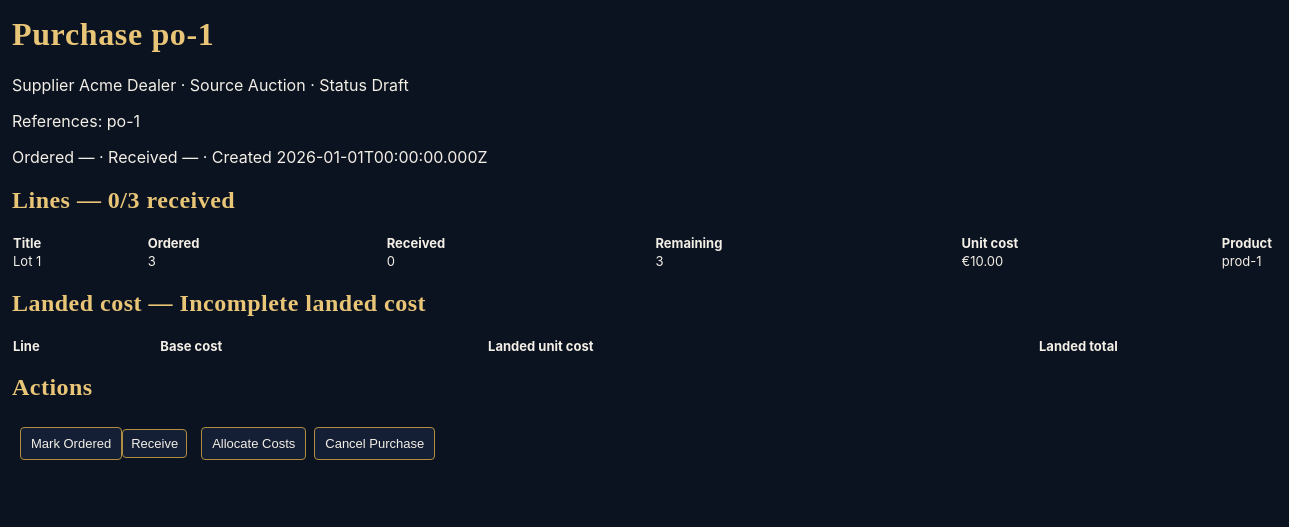
Purchase detail lifecycle actions (Sprint 57B) › shows the backend's cancel rejection message when a stale UI still allows an attempt
Expected: the heading "Purchase po-1" is shown, [12,16,214,52]
Click the button "Cancel Purchase" at {"x": 375, "y": 444}, box [314,427,435,460]
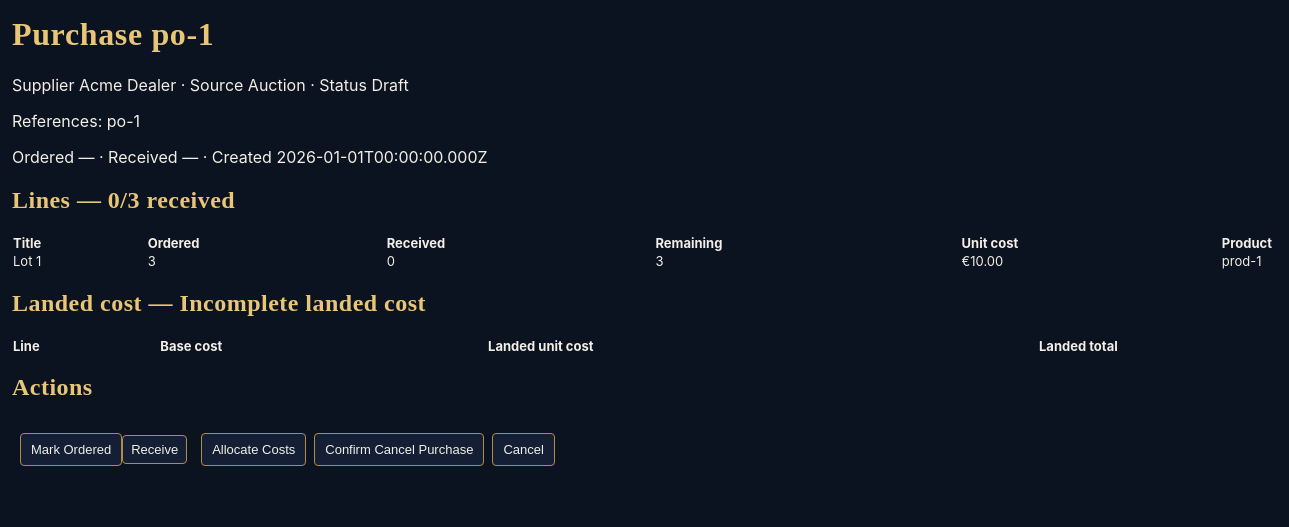
Click the button "Confirm Cancel Purchase" at {"x": 399, "y": 450}, box [314,433,484,466]
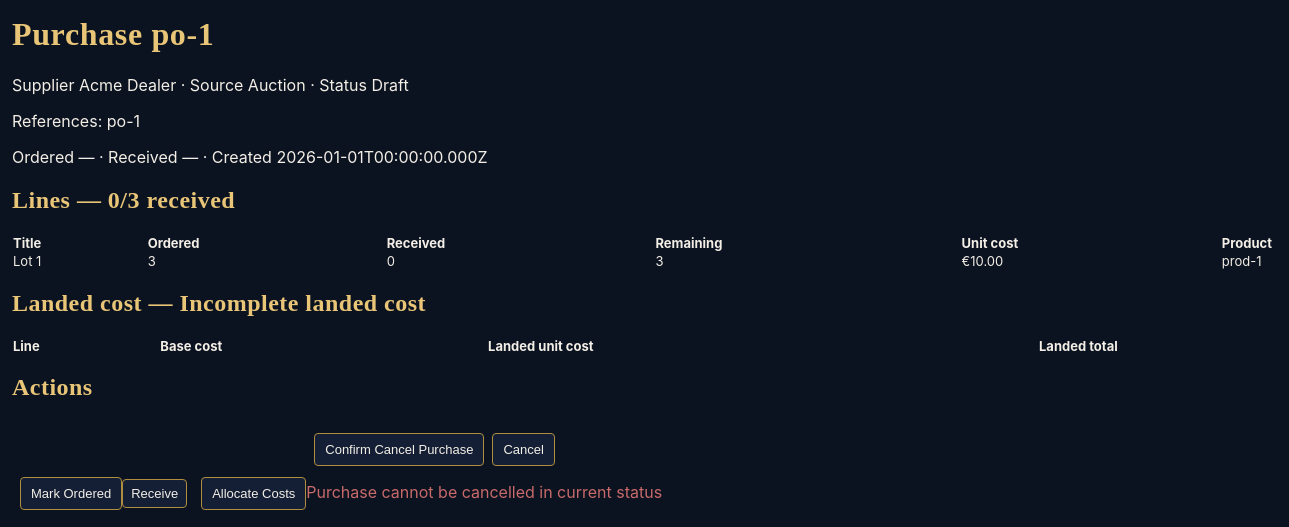
Expected: the message reads "Purchase cannot be cancelled in current status", [306,482,662,502]
